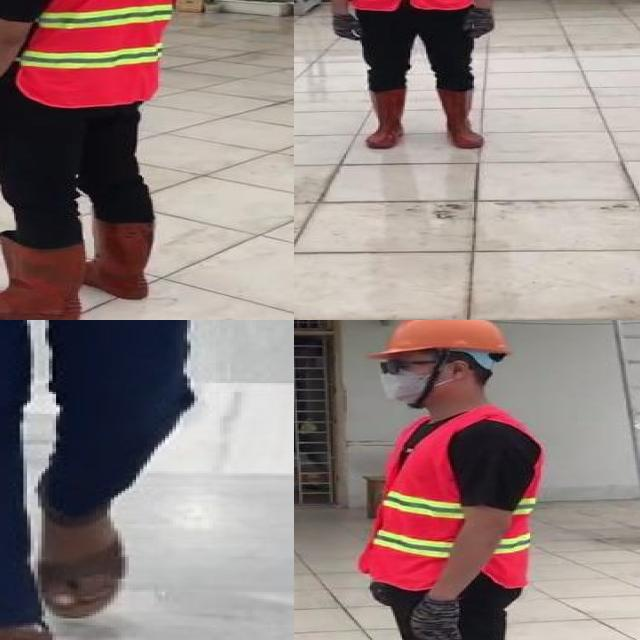boots: (0, 233, 85, 320), (82, 220, 160, 298), (437, 85, 488, 149), (362, 88, 414, 149)
face_mask: (370, 349, 450, 404)
glasses: (370, 352, 427, 380)
hand_glove: (407, 597, 474, 640), (463, 8, 499, 39), (330, 13, 364, 40)
head_helmet: (373, 320, 514, 359)
person: (335, 320, 564, 640), (0, 0, 201, 320), (310, 0, 513, 152)
vest: (363, 416, 549, 594), (8, 0, 190, 107)
